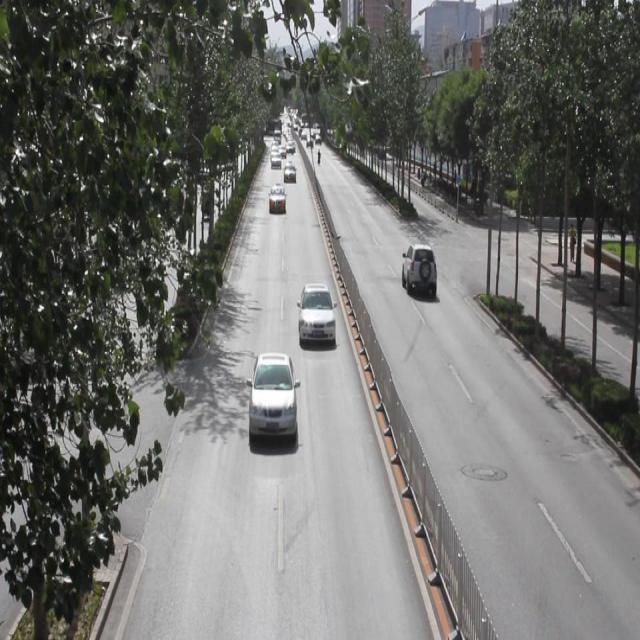car: (248, 351, 297, 437), (297, 282, 334, 346), (402, 241, 434, 294), (269, 184, 286, 212), (282, 162, 296, 183)
